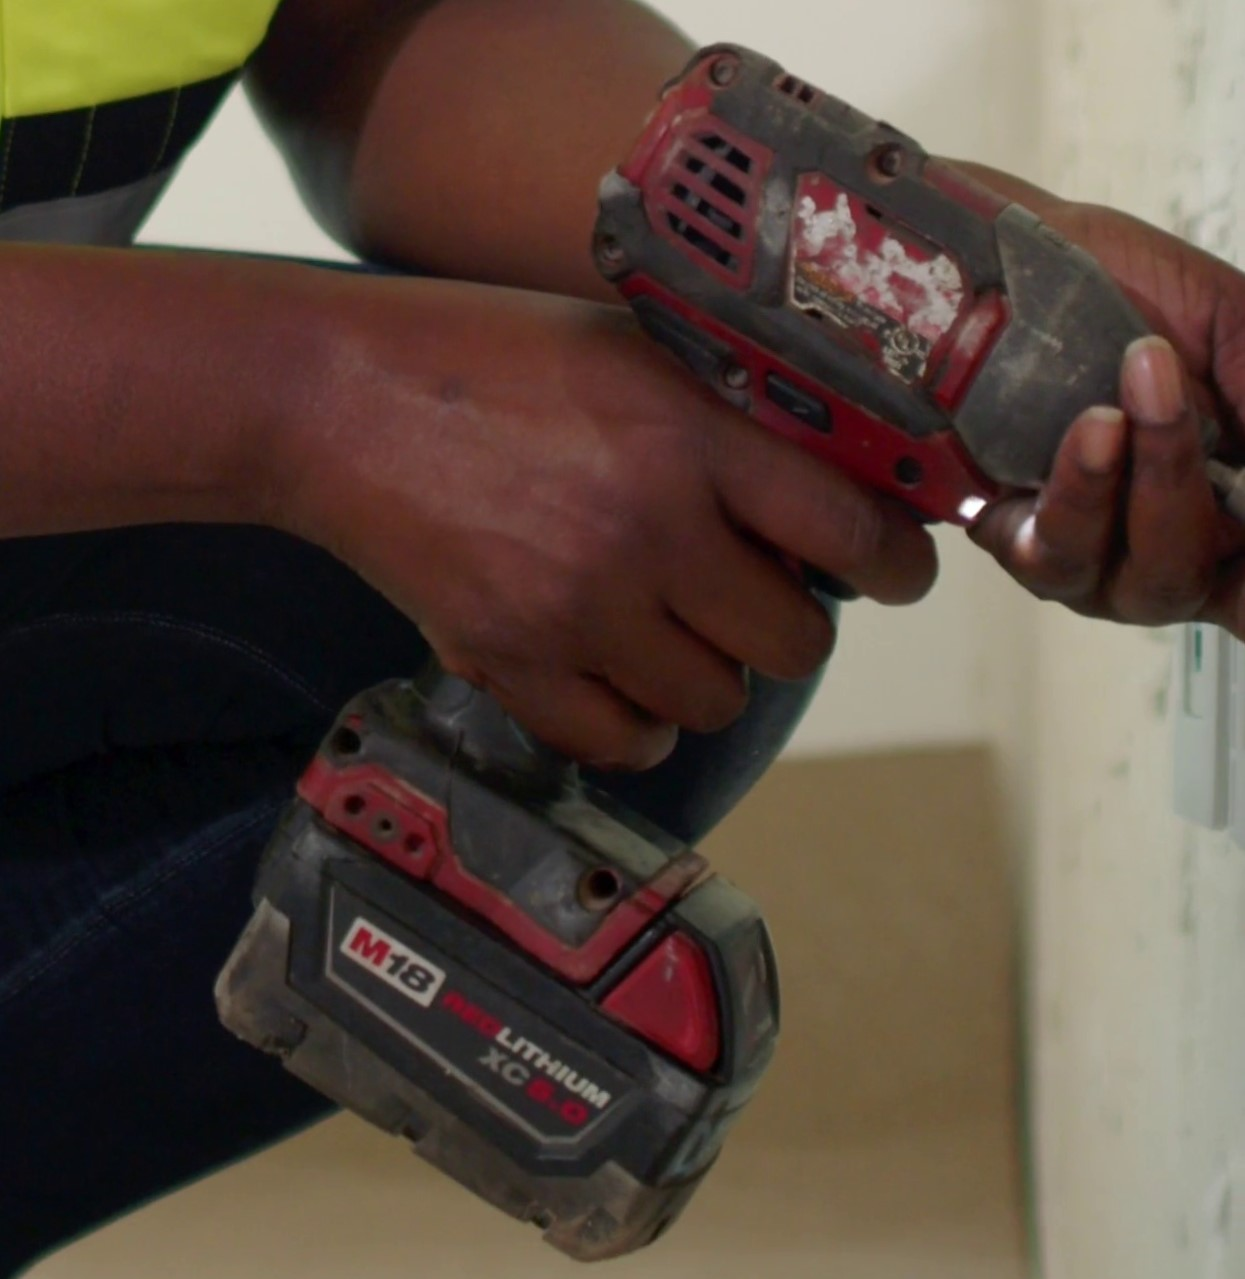driller: (204, 39, 1245, 1268)
